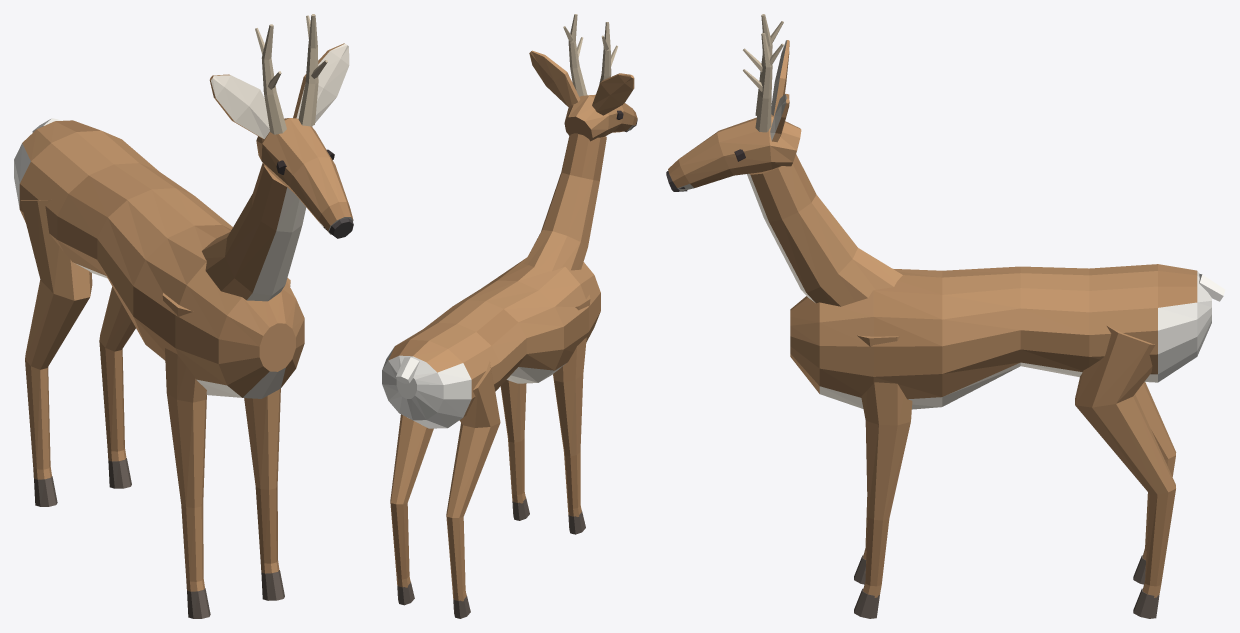
File: deer.glb
3 views of the same model, side by side, from view 1: azimuth 30°, elevation 25°; view 2: azimuth 150°, elevation 25°; view 3: azimuth 270°, elevation 25° (orthographic). The views are drawn at different scales.
Parts seen in each view (by area): view 1: Body, Leg.BR, Head.Neck, Leg.FR, Head.Skull, Leg.FL, Leg.BL, Head.Ear#2, Head.Ear, Head.Antler, Head.Antler#4, Leg.FL.Hoof (+3 smaller); view 2: Body, Head.Neck, Leg.BR, Leg.BL, Leg.FR, Leg.FL, Head.Skull, Head.Ear, Head.Ear#2, Head.Antler, Body.Tail, Head.Antler#4; view 3: Body, Leg.BL, Head.Neck, Leg.FL, Head.Skull, Leg.BR, Head.Antler.
Boxes of the visible parts, x1,y1,x2,y2 form: Body: [14, 120, 304, 398]; Leg.BR: [20, 199, 92, 479]; Head.Neck: [202, 163, 306, 301]; Leg.FR: [162, 293, 206, 591]; Head.Skull: [256, 118, 353, 234]; Leg.FL: [244, 278, 290, 573]; Leg.BL: [99, 286, 135, 461]; Head.Ear#2: [209, 74, 269, 139]; Head.Ear: [293, 43, 349, 126]; Head.Antler: [298, 14, 318, 126]; Head.Antler#4: [261, 24, 286, 134]; Leg.FL.Hoof: [261, 570, 284, 600]; Body: [382, 257, 600, 428]; Head.Neck: [524, 133, 606, 271]; Leg.BR: [446, 361, 500, 601]; Leg.BL: [390, 414, 433, 587]; Leg.FR: [553, 294, 590, 516]; Leg.FL: [500, 380, 526, 503]; Head.Skull: [564, 94, 637, 141]; Head.Ear: [529, 50, 580, 106]; Head.Ear#2: [592, 73, 634, 115]; Head.Antler: [568, 14, 587, 96]; Body.Tail: [396, 357, 419, 383]; Head.Antler#4: [599, 22, 611, 84]; Body: [790, 264, 1211, 409]; Leg.BL: [1075, 325, 1175, 597]; Head.Neck: [747, 154, 902, 306]; Leg.FL: [857, 335, 912, 597]; Head.Skull: [668, 114, 801, 191]; Leg.BR: [1135, 382, 1176, 559]; Head.Antler: [755, 33, 772, 132].
Bounding box in the file's own units: 0.2975 × 1.3 × 1.14.
